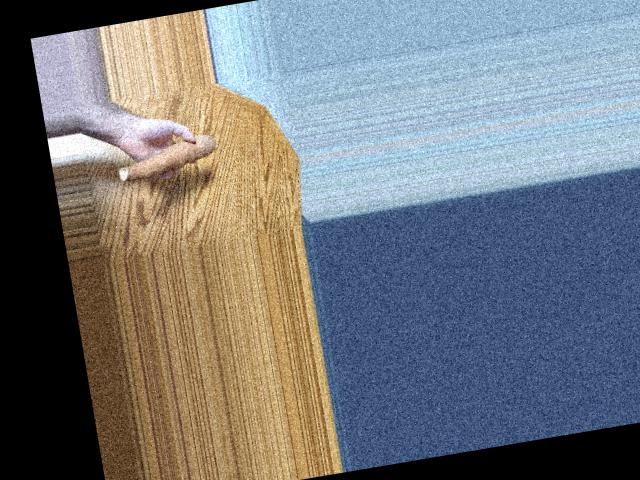sweet_potato: (119, 135, 226, 182)
